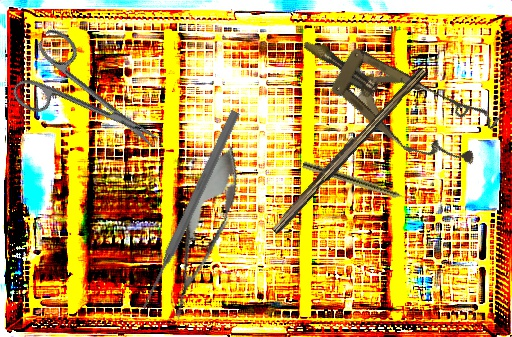Handpiece: (301, 160, 420, 207)
Iris Scissors: (4, 24, 177, 180)
Micro Scissor: (154, 139, 251, 327)
Pusher: (137, 108, 242, 312)
Scalpel Handle: (268, 62, 428, 238)
Speculum: (284, 9, 503, 185)
